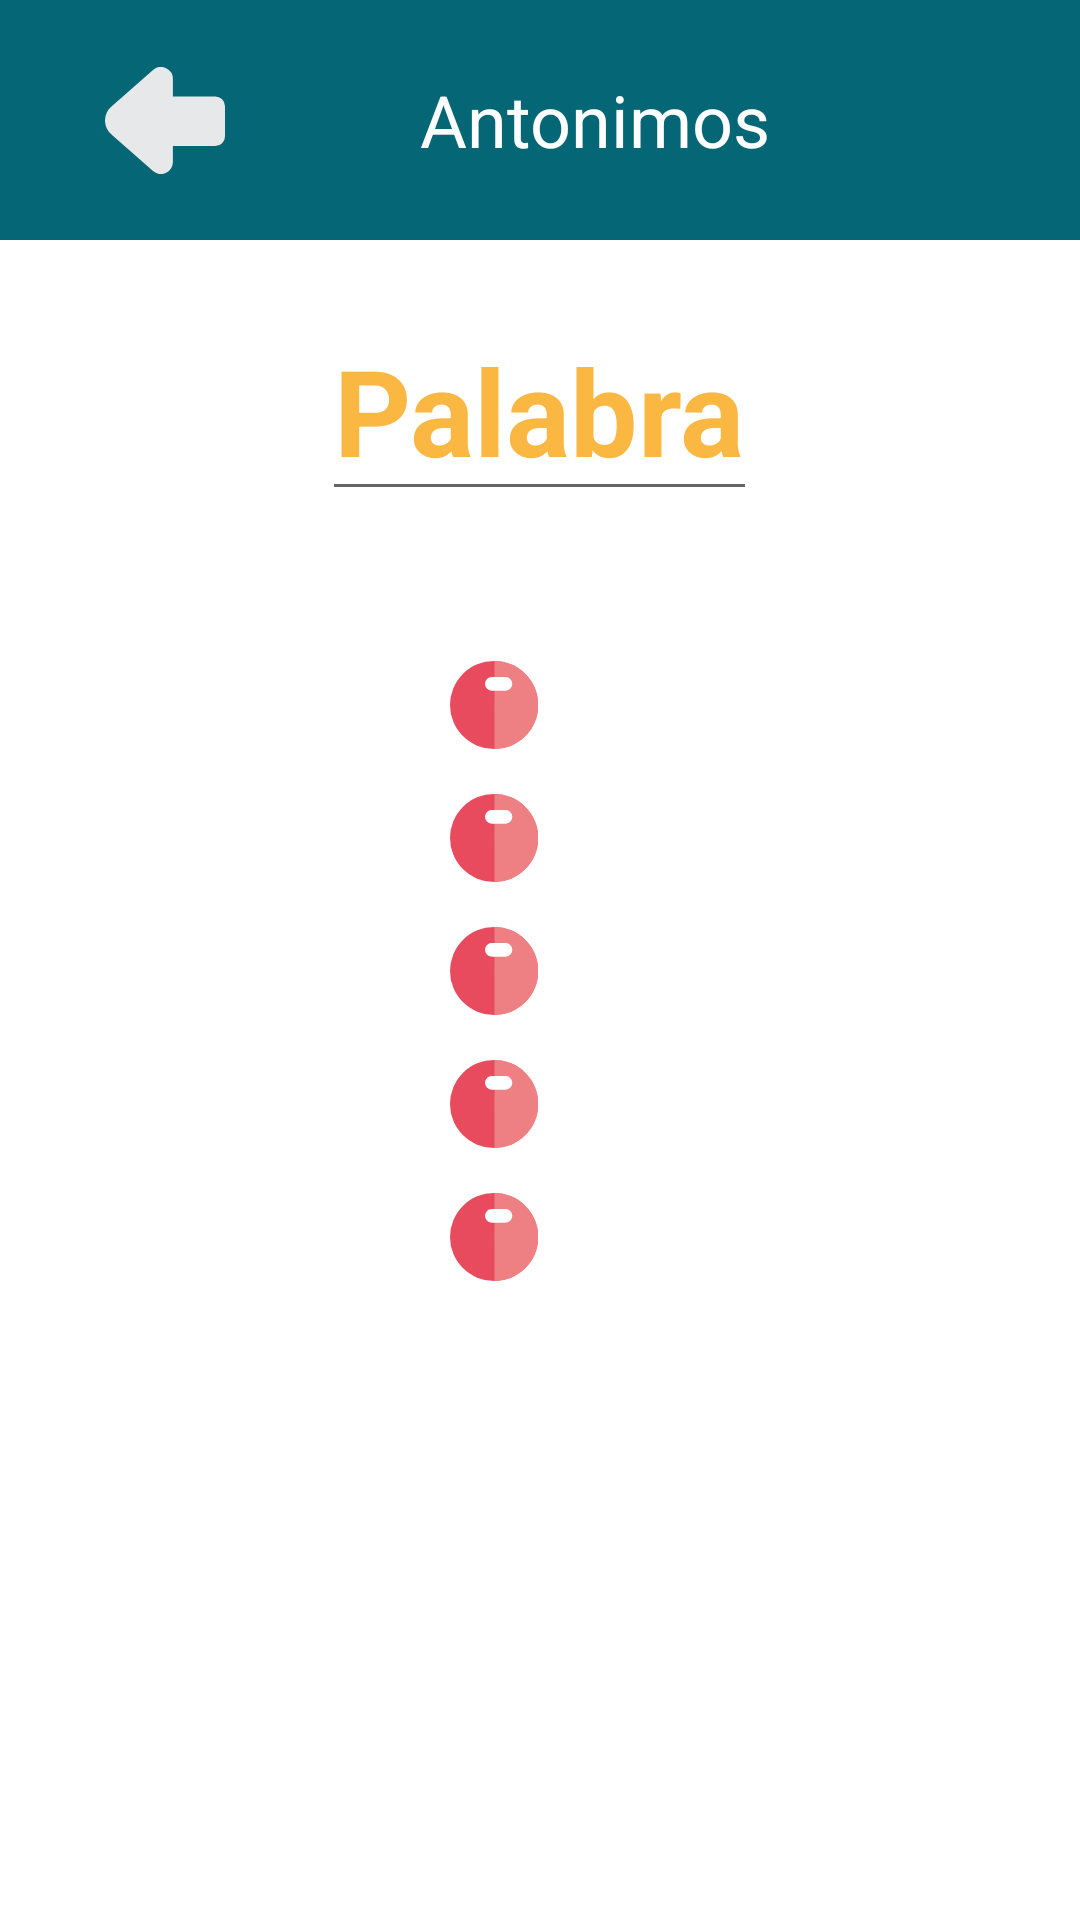

Screen size 1080 × 1920. Icon name, then its box in pixels as (x1, y1, x2, y2):
circulo rojo: (450, 661, 538, 749), (450, 794, 538, 882), (450, 927, 538, 1015), (450, 1060, 538, 1148), (450, 1193, 538, 1281)
flechaatras: (105, 67, 225, 174)
